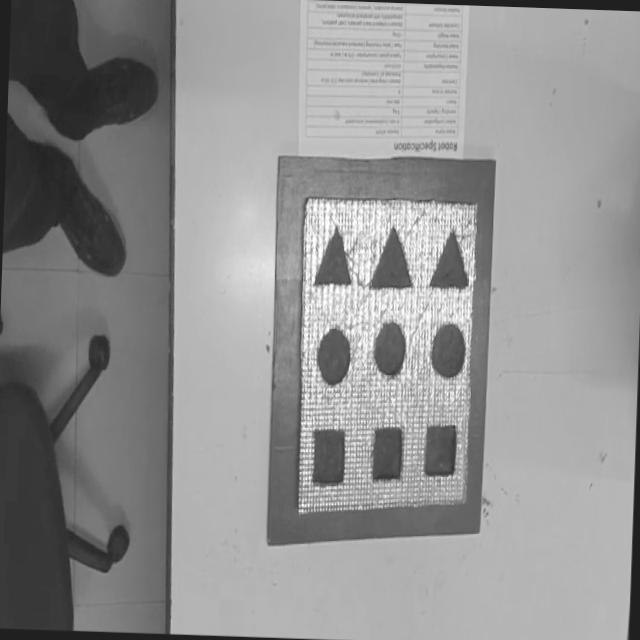mtcircle: (315, 328, 351, 387), (431, 322, 466, 380), (372, 321, 406, 379)
mtcube: (310, 427, 346, 487), (370, 425, 404, 484), (423, 424, 458, 478)
mttriangle: (368, 225, 415, 293), (313, 222, 354, 288), (428, 230, 471, 292)
wb: (294, 192, 480, 520)
